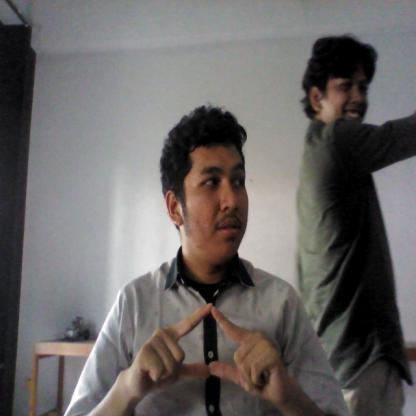A: (128, 302, 286, 402)
